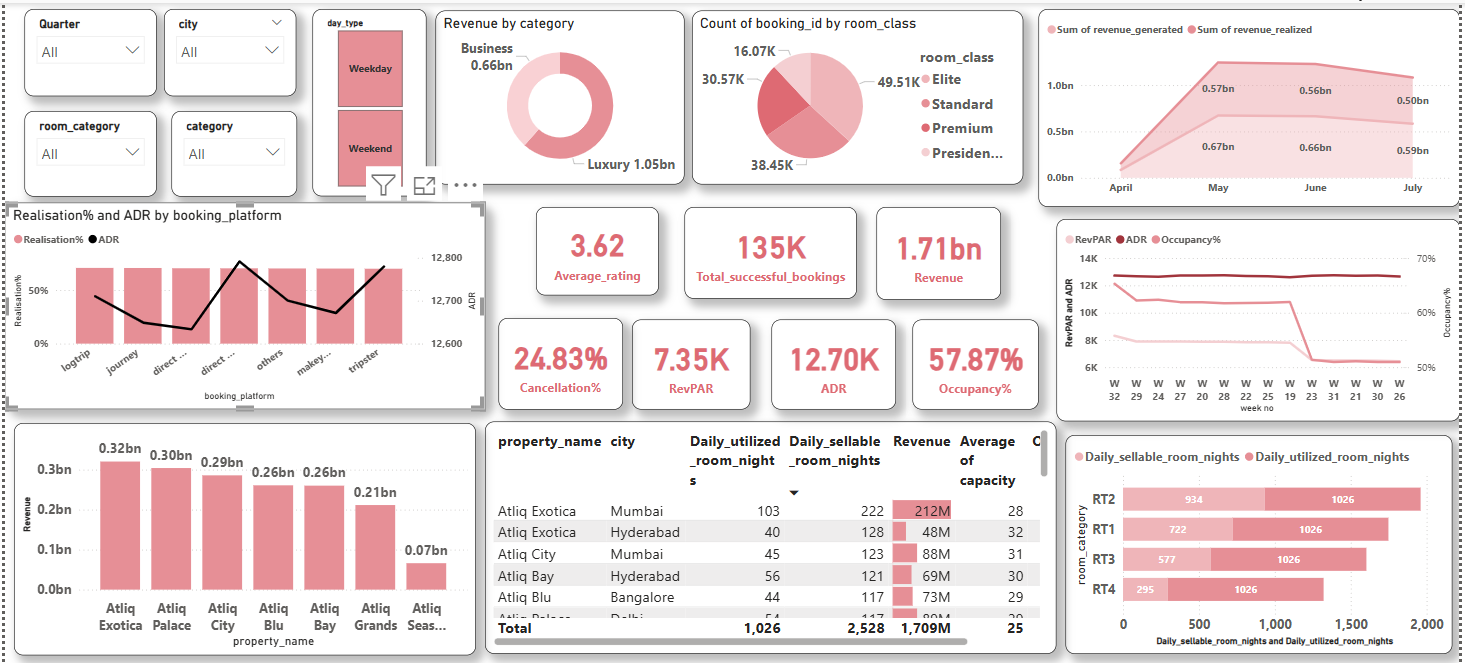

The page's visual inventory and layout, read from the dashboard file:
{"tool":"powerbi","page":{"name":"Page 2","canvas":[1745,800],"ordinal":1},"visuals":[{"type":"card","fields":{"Values":["key_measures.Total_successful_bookings"]},"box":[815,244.7,206.9,109.7],"z":0},{"type":"card","fields":{"Values":["key_measures.RevPAR"]},"box":[752,379.6,142.1,107.9],"z":1000},{"type":"card","fields":{"Values":["key_measures.Average_rating"]},"box":[636.9,244.7,147.5,106.1],"z":2000},{"type":"card","fields":{"Values":["key_measures.Cancellation%"]},"box":[591.9,377.8,149.3,109.7],"z":3000},{"type":"barChart","fields":{"Category":["fact_aggregated_bookings.room_category"],"Y":["key_measures.Daily_sellable_room_nights","key_measures.Daily_utilized_room_nights"]},"box":[1272,518.2,464.2,262.7],"z":4000},{"type":"stackedAreaChart","fields":{"Y":["Sum(fact_bookings.revenue_generated)","Sum(fact_bookings.revenue_realized)"],"Category":["fact_bookings.booking_date.Variation.Date Hierarchy.Month"]},"box":[1239.6,7.2,505.6,237.5],"z":5000},{"type":"tableEx","fields":{"Values":["dim_hotels.property_name","dim_hotels.city","key_measures.Daily_utilized_room_nights","key_measures.Daily_sellable_room_nights","key_measures.Revenue","Avg(fact_aggregated_bookings.capacity)","key_measures.Occupancy%"]},"box":[575.7,502,685.5,278.9],"z":6000},{"type":"slicer","fields":{"Values":["dim_date.date.Variation.Date Hierarchy.Quarter"]},"box":[24.1,8,158.9,104.6],"z":7000},{"type":"slicer","fields":{"Values":["dim_hotels.city"]},"box":[191.1,8,158.9,104.6],"z":8000},{"type":"slicer","fields":{"Values":["fact_aggregated_bookings.room_category"]},"box":[24.1,128.7,158.9,102.6],"z":9000},{"type":"lineStackedColumnComboChart","fields":{"Y":["key_measures.Realisation%"],"Category":["fact_bookings.booking_platform"],"Y2":["key_measures.ADR"]},"box":[0,239.3,575.7,248.3],"z":10000},{"type":"donutChart","fields":{"Y":["key_measures.Revenue"],"Category":["dim_hotels.category"]},"box":[516.4,9,298.7,208.7],"z":11000},{"type":"card","fields":{"Values":["key_measures.Revenue"]},"box":[1045.3,244.7,149.3,111.5],"z":12000},{"type":"card","fields":{"Values":["key_measures.ADR"]},"box":[919.4,379.6,149.3,107.9],"z":13000},{"type":"card","fields":{"Values":["key_measures.Occupancy%"]},"box":[1088.5,379.6,151.1,107.9],"z":14000},{"type":"columnChart","fields":{"Category":["dim_hotels.property_name"],"Y":["key_measures.Revenue"]},"box":[10.8,503.8,554.1,278.9],"z":15000},{"type":"slicer","fields":{"Values":["dim_hotels.category"]},"box":[199.1,128.7,150.8,102.6],"z":16000},{"type":"pieChart","fields":{"Category":["dim_rooms.room_class"],"Y":["CountNonNull(fact_bookings.booking_id)"]},"box":[824,9,397.6,208.7],"z":17000},{"type":"slicer","fields":{"Values":["dim_date.day_type"]},"box":[368.8,7.2,136.7,224.9],"z":18000},{"type":"lineChart","fields":{"Y2":["key_measures.Occupancy%"],"Y":["key_measures.RevPAR","key_measures.ADR"],"Category":["dim_date.week no"]},"box":[1261.2,259.1,484,242.9],"z":19000}]}

Visuals, with their boxes in screenshot pixels (x1, y1, x2, y2), scaled from the page's 1745x800 canvas onto the 1465x663 screenshot:
card - key_measures.Total_successful_bookings: region(684, 203, 858, 294)
card - key_measures.RevPAR: region(631, 315, 751, 404)
card - key_measures.Average_rating: region(535, 203, 659, 291)
card - key_measures.Cancellation%: region(497, 313, 622, 404)
barChart - fact_aggregated_bookings.room_category x key_measures.Daily_sellable_room_nights: region(1068, 429, 1458, 647)
stackedAreaChart - Sum(fact_bookings.revenue_generated) x Sum(fact_bookings.revenue_realized): region(1041, 6, 1464, 203)
tableEx - dim_hotels.property_name x dim_hotels.city: region(483, 416, 1059, 647)
slicer - dim_date.date.Variation.Date Hierarchy.Quarter: region(20, 7, 154, 93)
slicer - dim_hotels.city: region(160, 7, 294, 93)
slicer - fact_aggregated_bookings.room_category: region(20, 107, 154, 192)
lineStackedColumnComboChart - key_measures.Realisation% x fact_bookings.booking_platform: region(0, 198, 483, 404)
donutChart - key_measures.Revenue x dim_hotels.category: region(434, 7, 684, 180)
card - key_measures.Revenue: region(878, 203, 1003, 295)
card - key_measures.ADR: region(772, 315, 897, 404)
card - key_measures.Occupancy%: region(914, 315, 1041, 404)
columnChart - dim_hotels.property_name x key_measures.Revenue: region(9, 418, 474, 649)
slicer - dim_hotels.category: region(167, 107, 294, 192)
pieChart - dim_rooms.room_class x CountNonNull(fact_bookings.booking_id): region(692, 7, 1026, 180)
slicer - dim_date.day_type: region(310, 6, 424, 192)
lineChart - key_measures.Occupancy% x key_measures.RevPAR: region(1059, 215, 1464, 416)
